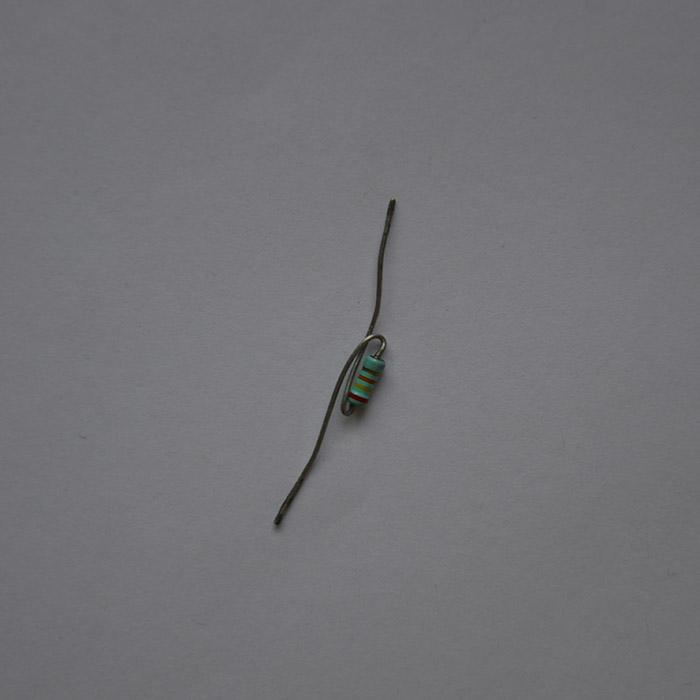resistor: (345, 350, 387, 407)
